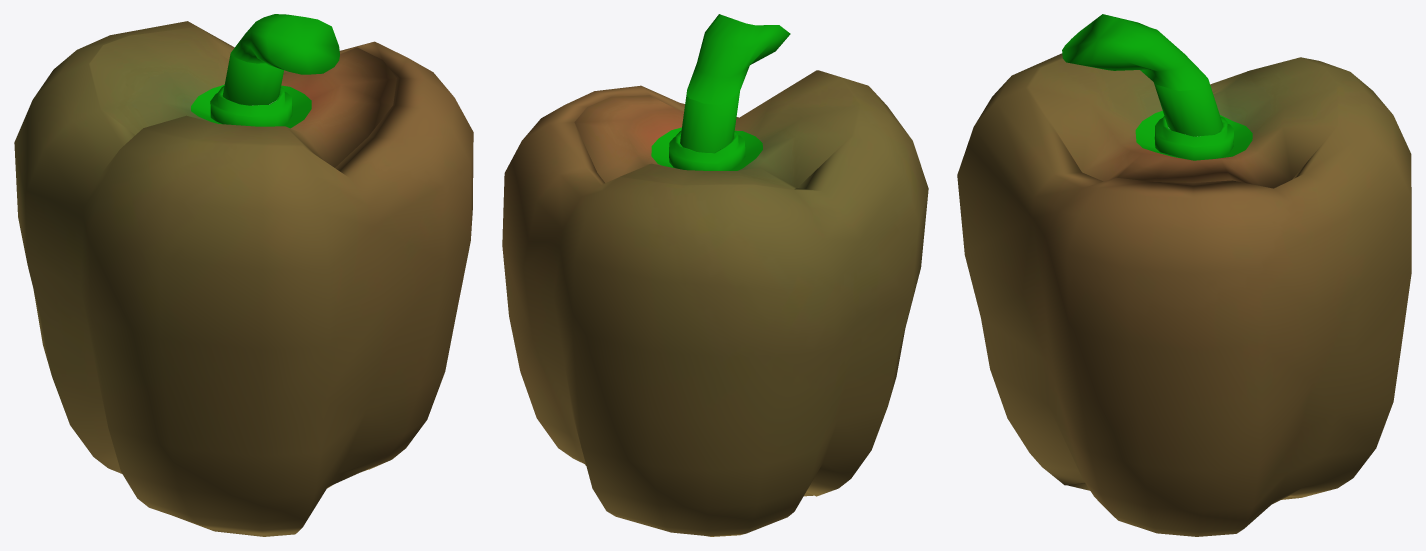
File: bell_pepper_brown.dae
3 renders of one model, left to right at view 1: azimuth 30°, elevation 25°; view 2: azimuth 150°, elevation 25°; view 3: azimuth 270°, elevation 25°, orthographic. The views are drawn at different scales.
Visible parts, largest first — view 1: red_bell_pepper, red_bell_pepper.001; view 2: red_bell_pepper, red_bell_pepper.001; view 3: red_bell_pepper, red_bell_pepper.001.
Part boxes in pixels (x1,y1,x2,y2): red_bell_pepper: [14, 21, 473, 536]; red_bell_pepper.001: [191, 14, 339, 128]; red_bell_pepper: [502, 70, 928, 536]; red_bell_pepper.001: [651, 14, 790, 170]; red_bell_pepper: [957, 53, 1411, 536]; red_bell_pepper.001: [1062, 14, 1252, 160].
Bounding box in the file's own units: 0.0712 × 0.0733 × 0.0847.
3 materials, 1 textured.
